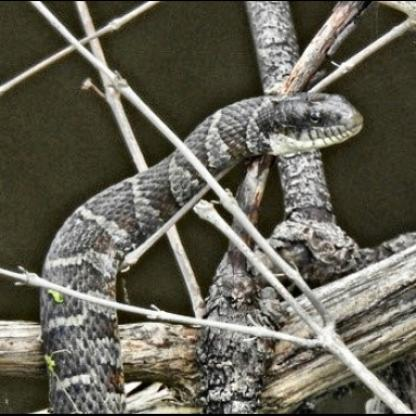Snake: (6, 34, 409, 396)
